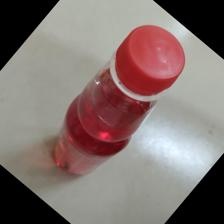Sting: (51, 24, 184, 178)
